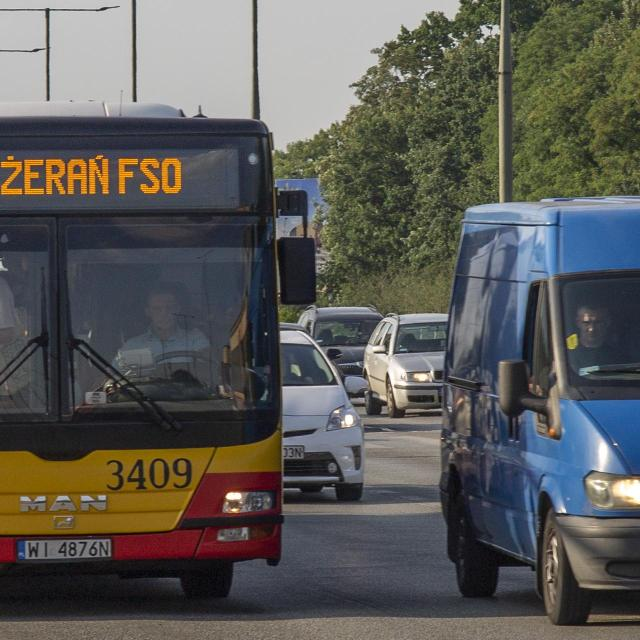Bus: (0, 102, 284, 599)
